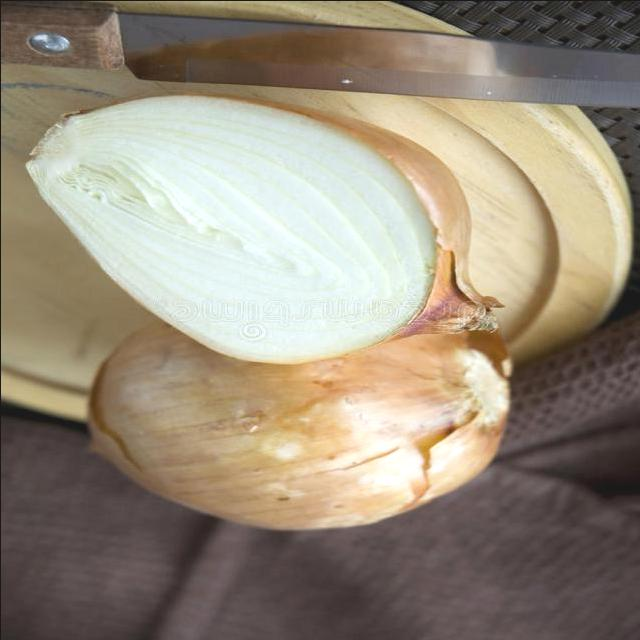onion: (23, 85, 482, 363), (76, 292, 525, 538)
